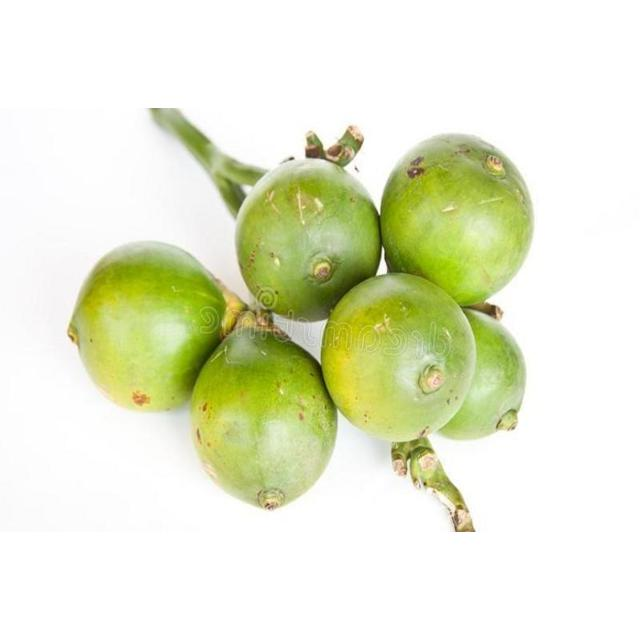good: (318, 273, 522, 446), (67, 242, 244, 415), (189, 328, 338, 513), (379, 134, 535, 309), (234, 159, 383, 325)
